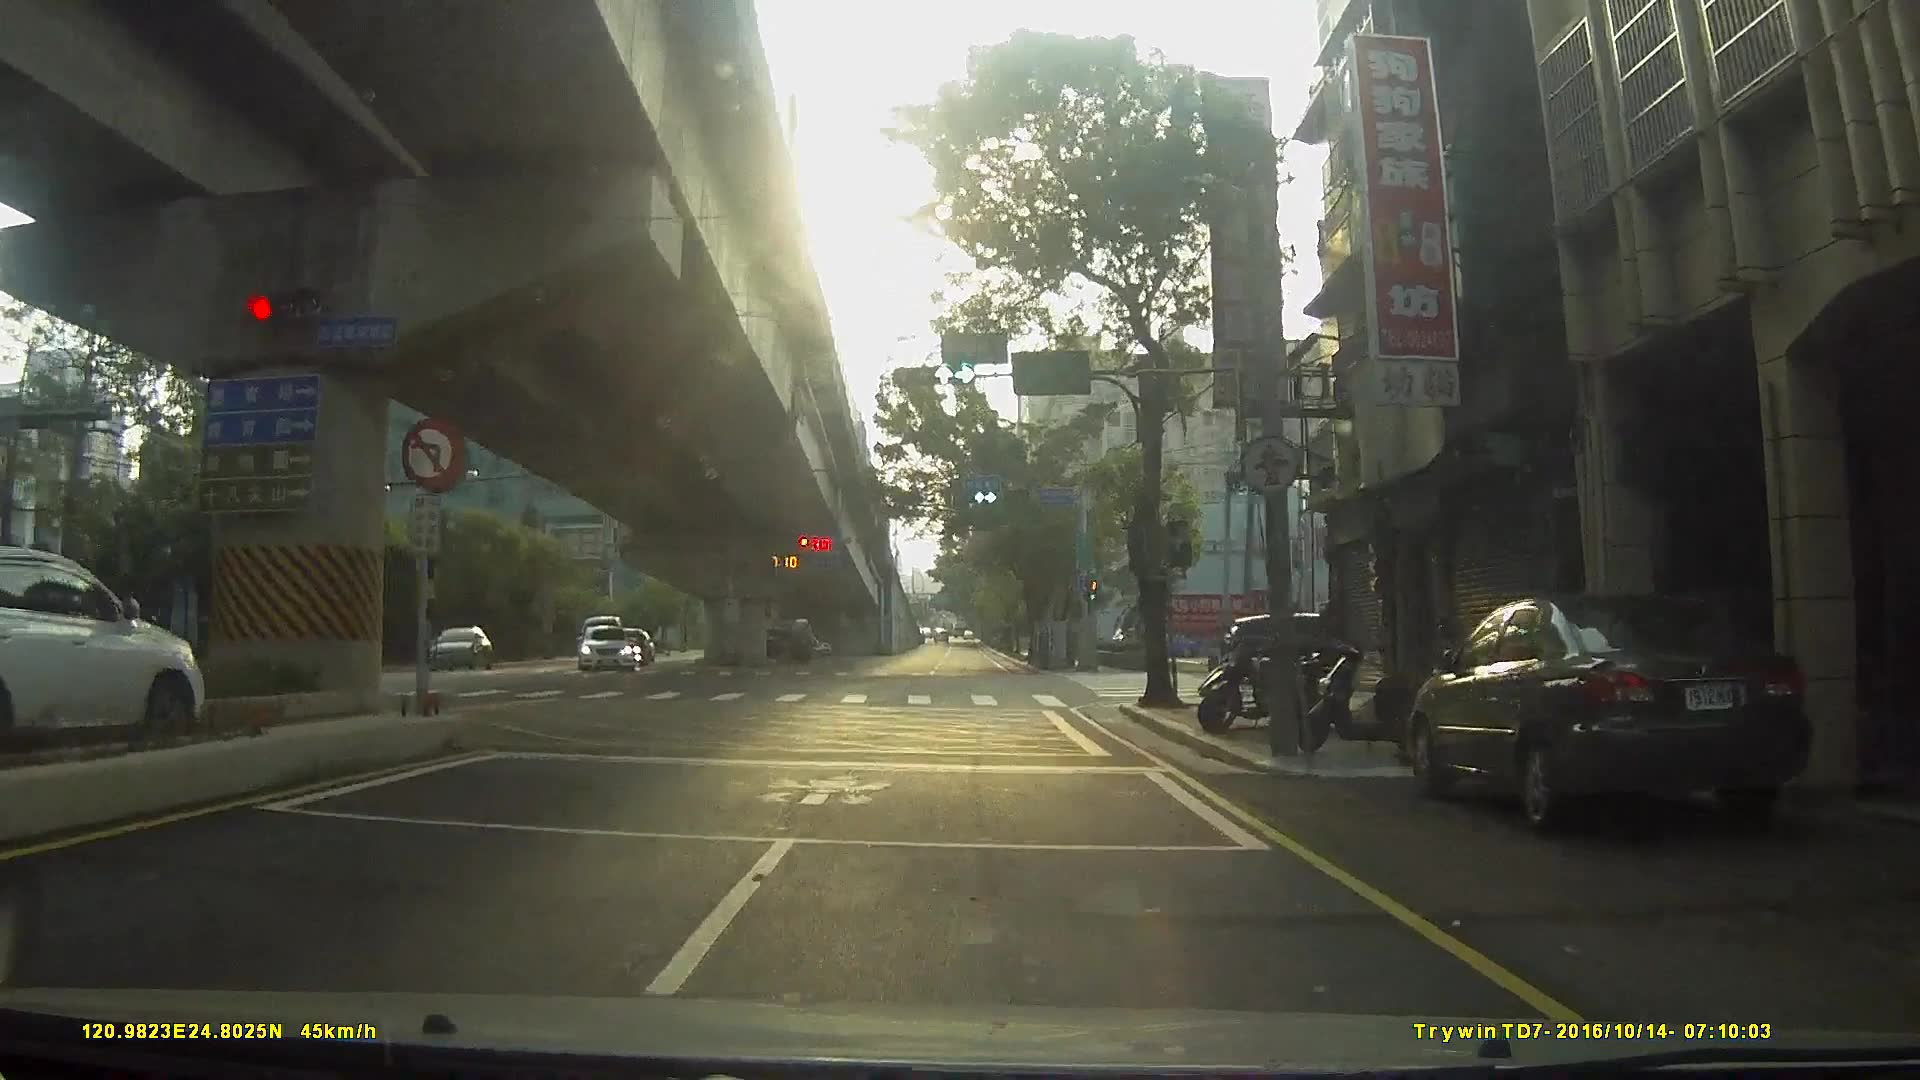vehicle: (1389, 580, 1846, 847), (1, 549, 225, 752), (419, 622, 489, 671), (574, 622, 633, 673), (746, 622, 815, 665)
